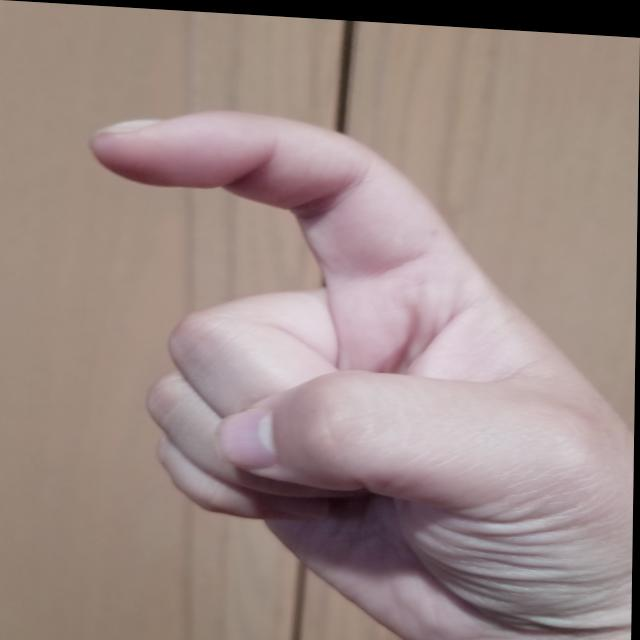X: (72, 93, 639, 639)
